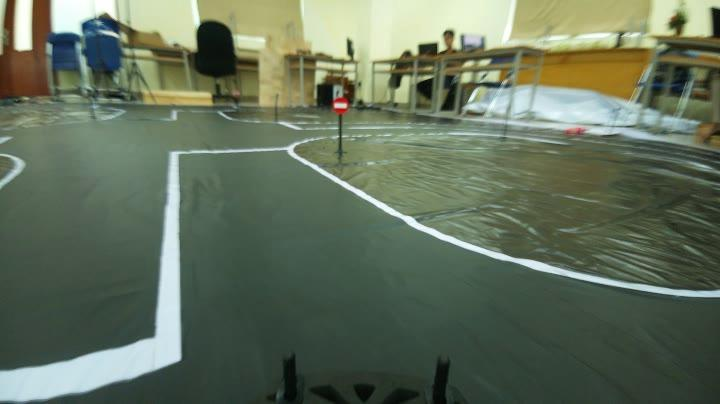no_entry: (329, 92, 353, 119)
